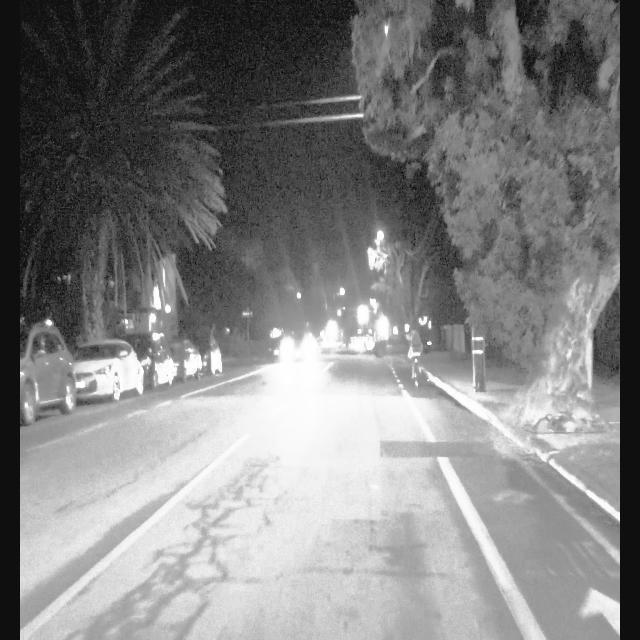Tree: (491, 2, 611, 440)
